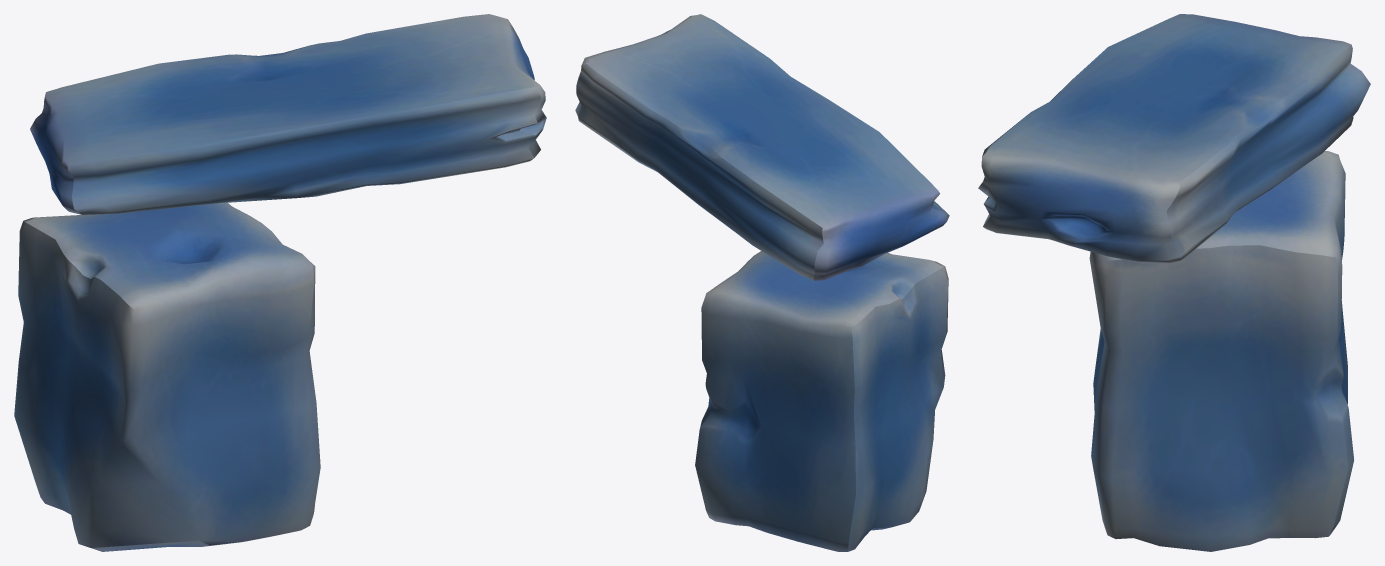
File: p_dlc09_iceblock_02 (2)1.fbx
The picture shows the model from 3 angles, left to right: view 1: azimuth 30°, elevation 25°; view 2: azimuth 150°, elevation 25°; view 3: azimuth 270°, elevation 25°; orthographic projection. The views are drawn at different scales.
Visible parts, largest first — view 1: p_dlc09_iceblock_02 (2), p_dlc09_iceblock_02 (11); view 2: p_dlc09_iceblock_02 (2), p_dlc09_iceblock_02 (11); view 3: p_dlc09_iceblock_02 (2), p_dlc09_iceblock_02 (11).
Part boxes in pixels (<box>): p_dlc09_iceblock_02 (2): <box>14,202,320,551</box>; p_dlc09_iceblock_02 (11): <box>30,14,546,214</box>; p_dlc09_iceblock_02 (2): <box>695,251,948,551</box>; p_dlc09_iceblock_02 (11): <box>575,14,949,280</box>; p_dlc09_iceblock_02 (2): <box>1089,151,1353,551</box>; p_dlc09_iceblock_02 (11): <box>978,14,1370,263</box>.
Bounding box in the file's own units: 2.73 × 1.94 × 2.64.
Materials: 1 (1 with a texture image).
